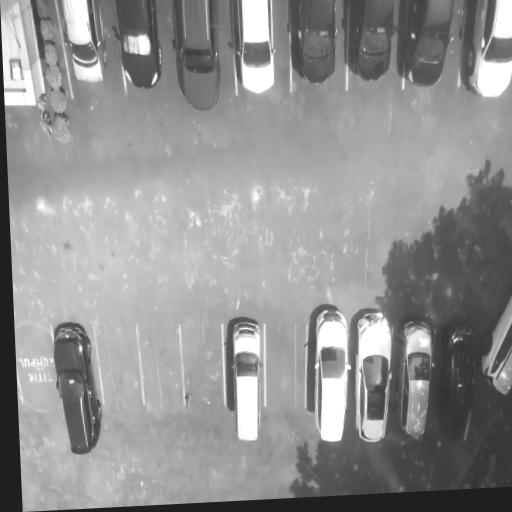Car: (53, 320, 106, 456), (306, 300, 354, 447), (351, 305, 398, 448), (434, 314, 484, 447), (169, 0, 222, 121), (395, 310, 439, 444), (224, 319, 268, 449), (460, 0, 512, 102), (54, 0, 110, 91), (476, 276, 512, 415), (401, 0, 453, 94), (114, 0, 164, 97), (287, 0, 340, 90), (344, 0, 395, 89), (231, 0, 275, 102)
Space Available: (264, 310, 308, 433), (139, 310, 185, 426), (97, 325, 146, 431), (182, 313, 227, 425), (15, 330, 58, 433)
